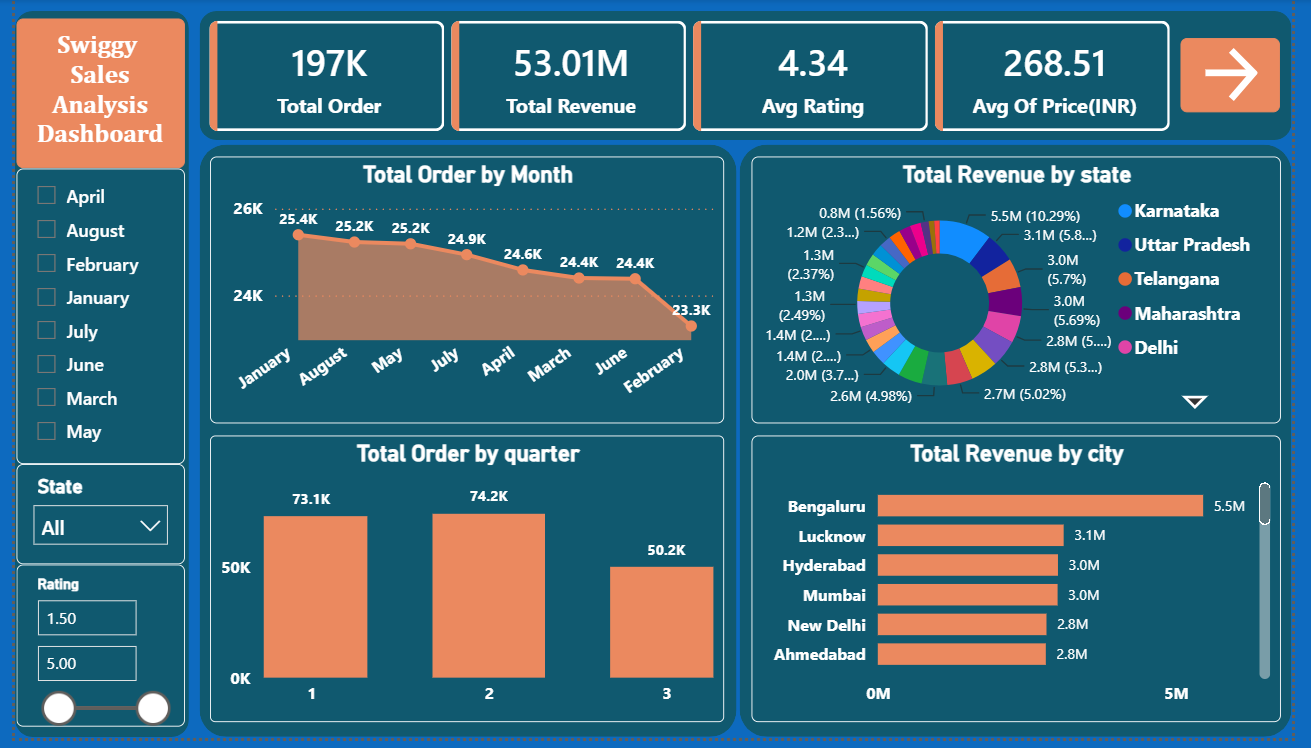

The dashboard page shown, as its layout file describes it:
{"tool":"powerbi","page":{"name":"Dashboard","canvas":[950,550],"ordinal":0},"visuals":[{"type":"shape","box":[542,82,408,448],"z":0},{"type":"shape","box":[0,0,125,530],"z":1000},{"type":"shape","box":[132.3,81.8,404,448.5],"z":2000},{"type":"shape","box":[133,3,817,72],"z":3000},{"type":"donutChart","fields":{"Category":["swiggy_data.State"],"Y":["swiggy_data.Total Revenue"]},"box":[132,89,403,202],"z":4000},{"type":"shape","box":[132.3,290.9,404,12.1],"z":5000},{"type":"clusteredBarChart","fields":{"Category":["swiggy_data.Category"],"Y":["swiggy_data.Total Revenue"]},"box":[132.3,303,202,217.2],"z":6000},{"type":"barChart","fields":{"Y":["swiggy_data.Total Revenue"],"Category":["swiggy_data.City"]},"box":[343.4,303,192.9,217.2],"z":7000},{"type":"shape","box":[544.4,290.9,428.3,12.1],"z":8000},{"type":"columnChart","fields":{"Y":["swiggy_data.Total order"],"Category":["swiggy_data.Quarter"]},"box":[544,89,215,202],"z":9000},{"type":"areaChart","fields":{"Y":["swiggy_data.Total order"],"Category":["swiggy_data.Month Name"]},"box":[767,89,183,202],"z":10000},{"type":"barChart","fields":{"Y":["swiggy_data.Total order"],"Category":["swiggy_data.Spending Bucket"]},"box":[544,301,406,222],"z":11000},{"type":"cardVisual","fields":{"Data":["swiggy_data.Total order"]},"box":[141,3,193,72],"z":12000},{"type":"cardVisual","fields":{"Data":["swiggy_data.Total Revenue"]},"box":[334,3,193,72],"z":13000},{"type":"cardVisual","fields":{"Data":["Avg(swiggy_data.Rating)"]},"box":[533,3,193,72],"z":14000},{"type":"slicer","fields":{"Values":["swiggy_data.Month Name"]},"box":[0,121,125,193],"z":15000},{"type":"cardVisual","fields":{"Data":["Avg(swiggy_data.Price (INR))"]},"box":[717,3,208,72],"z":16000},{"type":"slicer","fields":{"Values":["swiggy_data.State"]},"box":[0,325,125,62],"z":17000},{"type":"slicer","fields":{"Values":["swiggy_data.Rating"]},"box":[0,398,125,122],"z":18000},{"type":"textbox","box":[0,9,125,96],"z":19000},{"type":"actionButton","box":[925,19,25,40],"z":20000}]}

Visuals, with their boxes in screenshot pixels (x1, y1, x2, y2), scaled from the page's 950x550 canvas onto the 1311x748 screenshot:
shape: {"x1": 748, "y1": 112, "x2": 1310, "y2": 721}
shape: {"x1": 0, "y1": 0, "x2": 172, "y2": 721}
shape: {"x1": 183, "y1": 111, "x2": 740, "y2": 721}
shape: {"x1": 184, "y1": 4, "x2": 1310, "y2": 102}
donutChart - swiggy_data.State x swiggy_data.Total Revenue: {"x1": 182, "y1": 121, "x2": 738, "y2": 396}
shape: {"x1": 183, "y1": 396, "x2": 740, "y2": 412}
clusteredBarChart - swiggy_data.Category x swiggy_data.Total Revenue: {"x1": 183, "y1": 412, "x2": 461, "y2": 707}
barChart - swiggy_data.Total Revenue x swiggy_data.City: {"x1": 474, "y1": 412, "x2": 740, "y2": 707}
shape: {"x1": 751, "y1": 396, "x2": 1310, "y2": 412}
columnChart - swiggy_data.Total order x swiggy_data.Quarter: {"x1": 751, "y1": 121, "x2": 1047, "y2": 396}
areaChart - swiggy_data.Total order x swiggy_data.Month Name: {"x1": 1058, "y1": 121, "x2": 1310, "y2": 396}
barChart - swiggy_data.Total order x swiggy_data.Spending Bucket: {"x1": 751, "y1": 409, "x2": 1310, "y2": 711}
cardVisual - swiggy_data.Total order: {"x1": 195, "y1": 4, "x2": 461, "y2": 102}
cardVisual - swiggy_data.Total Revenue: {"x1": 461, "y1": 4, "x2": 727, "y2": 102}
cardVisual - Avg(swiggy_data.Rating): {"x1": 736, "y1": 4, "x2": 1002, "y2": 102}
slicer - swiggy_data.Month Name: {"x1": 0, "y1": 165, "x2": 172, "y2": 427}
cardVisual - Avg(swiggy_data.Price (INR)): {"x1": 989, "y1": 4, "x2": 1276, "y2": 102}
slicer - swiggy_data.State: {"x1": 0, "y1": 442, "x2": 172, "y2": 526}
slicer - swiggy_data.Rating: {"x1": 0, "y1": 541, "x2": 172, "y2": 707}
textbox: {"x1": 0, "y1": 12, "x2": 172, "y2": 143}
actionButton: {"x1": 1276, "y1": 26, "x2": 1310, "y2": 80}
